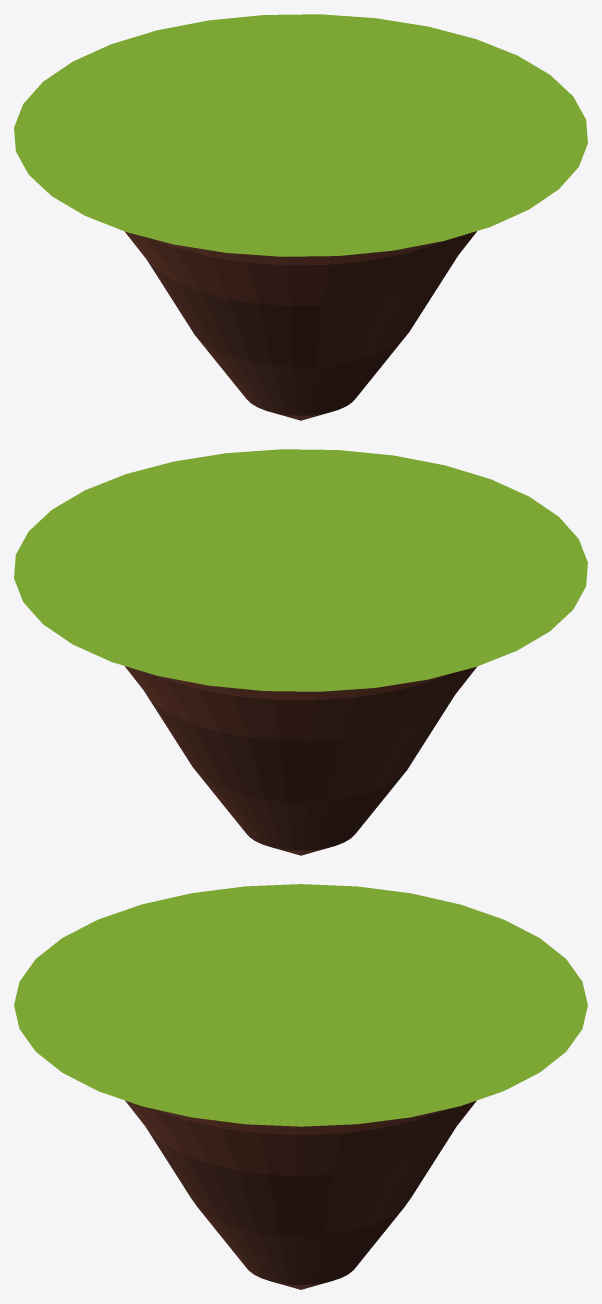
The model's file is Lobby.fbx.
3 views of the same model, one above another, from view 1: azimuth 30°, elevation 25°; view 2: azimuth 150°, elevation 25°; view 3: azimuth 270°, elevation 25° (orthographic).
Visible parts, largest first — view 1: Sphere; view 2: Sphere; view 3: Sphere.
Boxes of the visible parts, bbox=[...] form: Sphere: bbox=[14, 14, 587, 420]; Sphere: bbox=[14, 449, 587, 855]; Sphere: bbox=[14, 884, 587, 1289].
Size of the model in its own units: 196 by 107 by 196.
